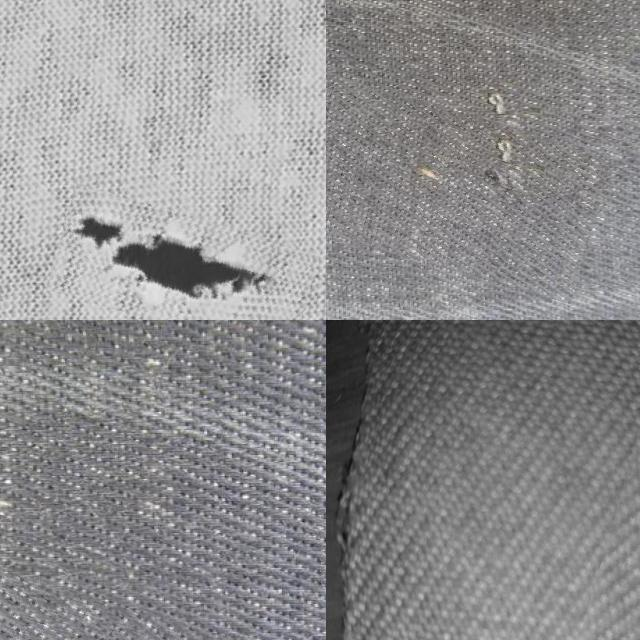other: (51, 198, 315, 320)
stains: (326, 42, 607, 267), (0, 590, 290, 640)
